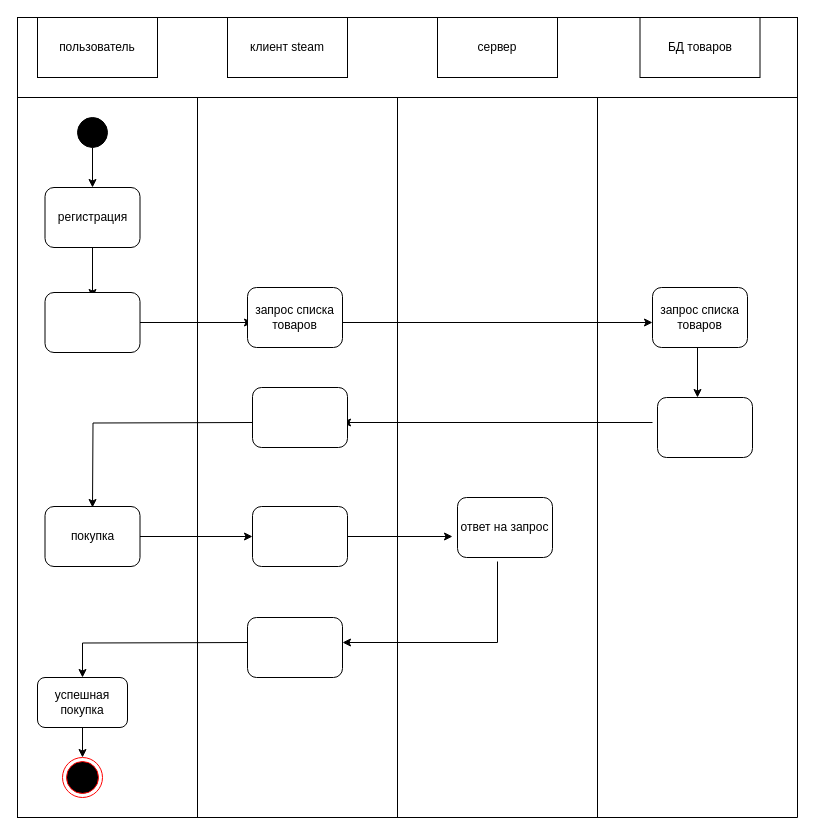
The diagram is 815 pixels wide and 835 high, and some of its shapes have lost their labels. The shapes that lost their labels are listed below. From the top down, each one's box as (x1, y1, x2, y2) in pixels, then its label:
(44, 292, 140, 352): выбор товаров
(252, 386, 348, 448): вывод списка товаров
(656, 396, 752, 458): ответ списка товаров
(252, 506, 348, 566): запрос на покупку
(246, 616, 342, 678): вывод окна покупки
